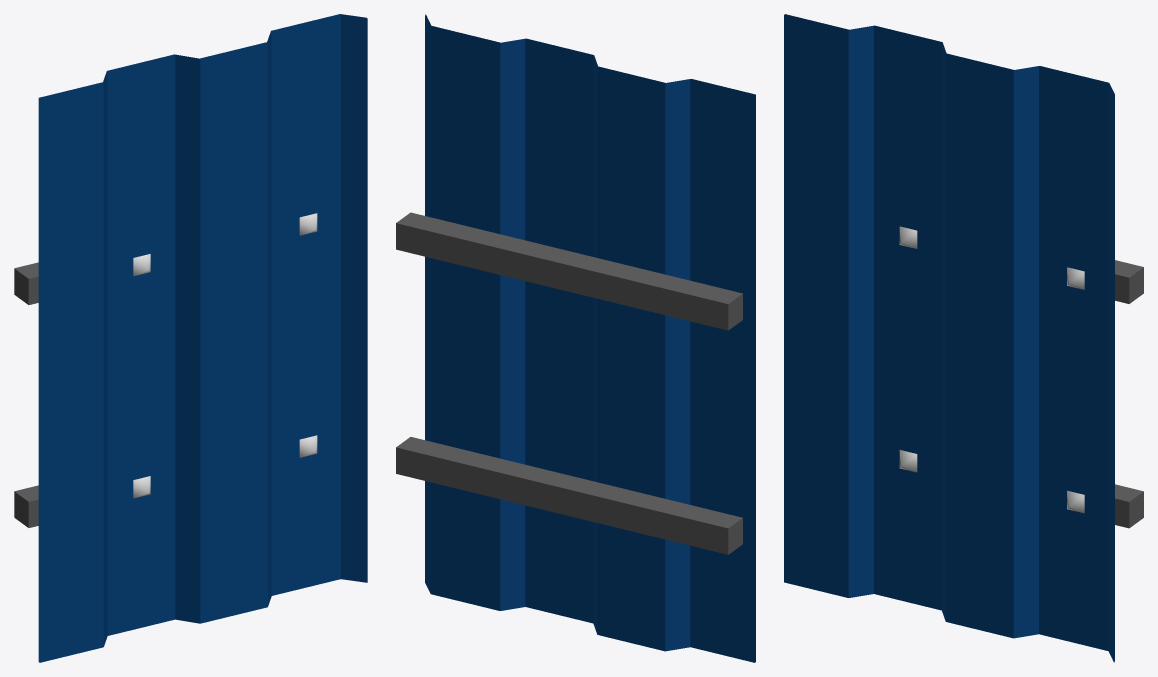
The model's file is заборсиний.fbx.
3 views of the same model, side by side, from view 1: azimuth 30°, elevation 25°; view 2: azimuth 150°, elevation 25°; view 3: azimuth 330°, elevation 25° (orthographic).
Visible parts, largest first — view 1: Plane.001; view 2: Plane.001; view 3: Plane.001.
Part boxes in pixels (x1,y1,x2,y2): Plane.001: [14, 14, 367, 662]; Plane.001: [396, 14, 755, 662]; Plane.001: [784, 14, 1143, 662].
Bounding box in the file's own units: 89.74 × 146 × 12.36.
